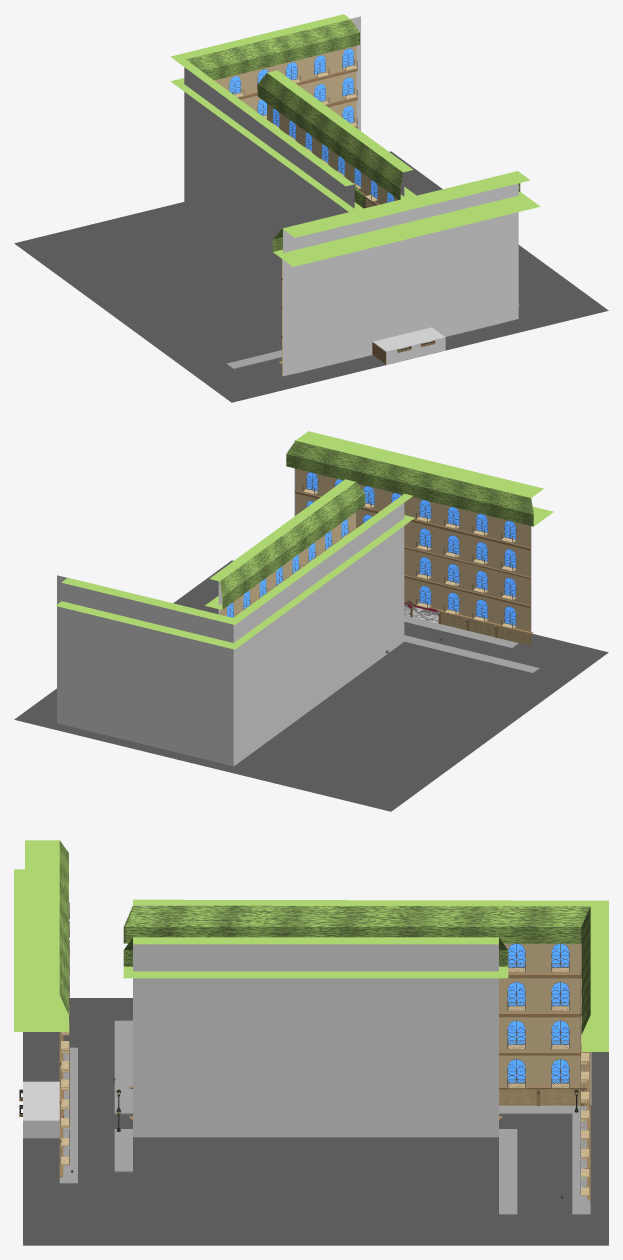
Rendered from city_lowpoly.fbx.
3 renders of one model, top to bottom at view 1: azimuth 30°, elevation 25°; view 2: azimuth 150°, elevation 25°; view 3: azimuth 270°, elevation 25°, orthographic. The views are drawn at different scales.
Visible parts, largest first — view 1: Street, Plane.002, Plane.001, BBRoof, FBoof.001, SBRoof, BB, BBBalcony.002, SB, SBBalcony, Sidewalk; view 2: Plane.001, Street, FB, FBoof.001, SBRoof, BBRoof, FBalcony.001, Sidewalk, SB, SBBalcony; view 3: Street, Plane, BBRoof, FBoof.001, BB, Sidewalk, SBRoof, BBBalcony.001, Plane.002, BBBalcony.002, FBalcony.001.
Part boxes in pixels (box(x1,y1,x2,y2)): Street: box(14, 151, 608, 402); Plane.002: box(283, 171, 518, 376); Plane.001: box(184, 16, 360, 277); BBRoof: box(170, 14, 365, 211); FBoof.001: box(272, 171, 540, 266); SBRoof: box(257, 70, 416, 199); BB: box(214, 46, 357, 128); BBBalcony.002: box(229, 48, 357, 126); SB: box(267, 103, 398, 207); SBBalcony: box(267, 108, 393, 203); Sidewalk: box(226, 323, 500, 373); Plane.001: box(57, 494, 404, 766); Street: box(14, 560, 608, 811); FB: box(295, 469, 533, 645); FBoof.001: box(286, 431, 553, 526); SBRoof: box(205, 479, 365, 609); BBRoof: box(55, 493, 414, 649); FBalcony.001: box(303, 472, 516, 629); Sidewalk: box(68, 615, 539, 766); SB: box(220, 512, 355, 616); SBBalcony: box(227, 519, 353, 617); Street: box(23, 998, 608, 1245); Plane: box(133, 944, 498, 1137); BBRoof: box(123, 899, 608, 1051); FBoof.001: box(14, 840, 68, 1031); BB: box(129, 943, 590, 1201); Sidewalk: box(59, 1020, 590, 1214); SBRoof: box(123, 937, 508, 978); BBBalcony.001: box(507, 943, 569, 1088); Plane.002: box(23, 1081, 59, 1138); BBBalcony.002: box(580, 971, 589, 1195); FBalcony.001: box(60, 902, 69, 1165).
Bounding box in the file's own units: 6400 × 2410 × 6498.
30 materials, 10 textured.
